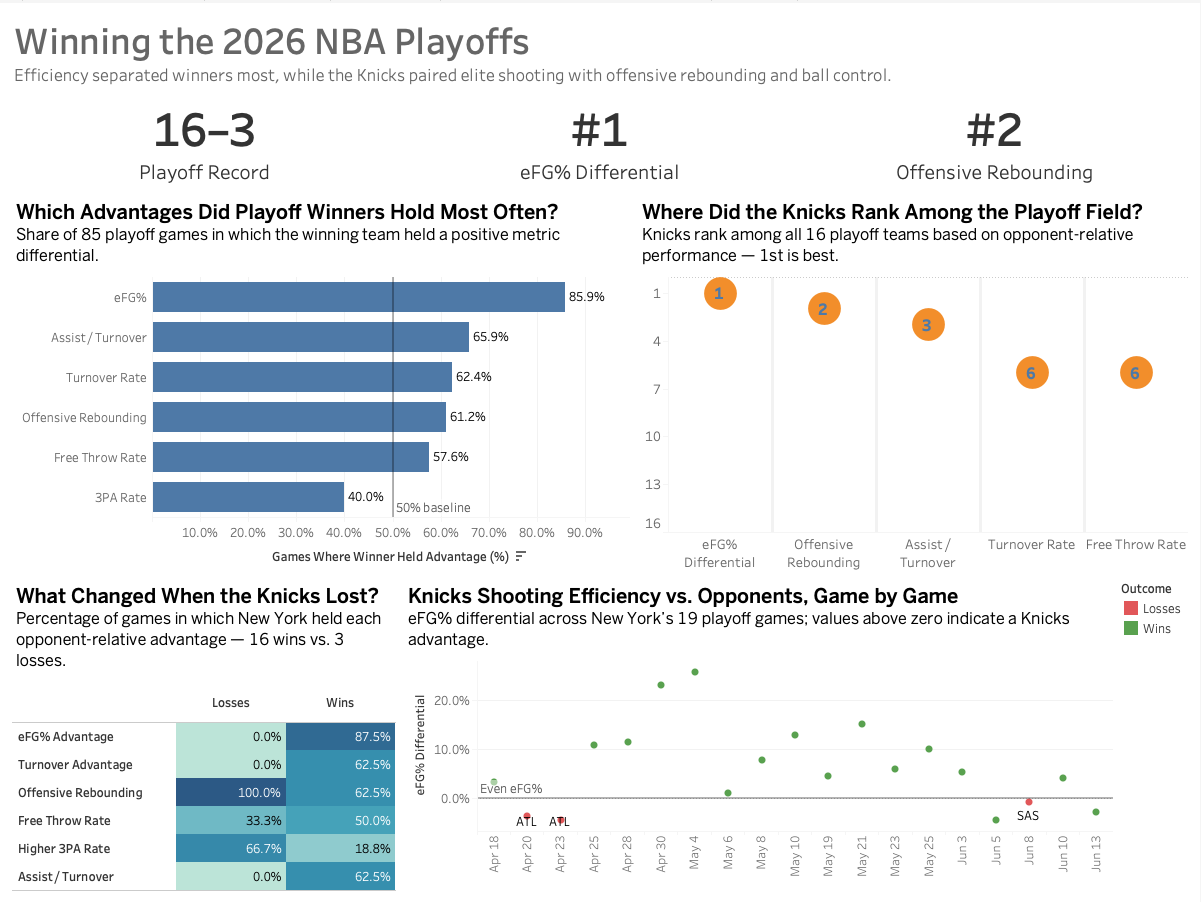

What the dashboard file says about the page in this screenshot:
{"tool":"tableau","page":{"name":"2026 NBA Playoff Dashboard","canvas":[1200,900],"ordinal":0},"visuals":[{"type":"text","box":[8,8,1184,80]},{"type":"worksheet","title":"KPI - Playoff Record","mark":"Text","box":[8,88,395,101]},{"type":"worksheet","title":"KPI - eFG Rank","mark":"Text","box":[403,88,395,101]},{"type":"worksheet","title":"KPI - OREB Rank","mark":"Text","box":[798,88,394,101]},{"type":"worksheet","title":"01 - League Winning Factors","mark":"Automatic","rows":["metric"],"cols":["pct_winners_with_advantage"],"box":[8,189,626,384]},{"type":"worksheet","title":"02 - Knicks League Ranks","mark":"Circle","box":[634,189,557.9,384]},{"type":"worksheet","title":"03 - Knicks Wins vs Losses","mark":"Square","cols":["wl"],"box":[8,573,392,319]},{"type":"worksheet","title":"04 - Knicks Game eFG","mark":"Circle","rows":["efg_diff"],"cols":["game_date"],"box":[400,573,716.9,319]},{"type":"legend","title":"04 - Knicks Game eFG","param":"[federated.1msszrq0bmaeel0zp5f8k0yv4jaq].[none:wl:nk]","box":[1116.9,573,75,319]}]}

Visuals, with their boxes in screenshot pixels (x1, y1, x2, y2), scaled from the page's 1200x900 canvas onto the 1201x902 screenshot:
text: (8,8,1193,88)
"KPI - Playoff Record" worksheet (Text marks): (8,88,403,189)
"KPI - eFG Rank" worksheet (Text marks): (403,88,799,189)
"KPI - OREB Rank" worksheet (Text marks): (799,88,1193,189)
"01 - League Winning Factors" worksheet: (8,189,635,574)
"02 - Knicks League Ranks" worksheet (Circle marks): (635,189,1193,574)
"03 - Knicks Wins vs Losses" worksheet (Square marks): (8,574,400,894)
"04 - Knicks Game eFG" worksheet (Circle marks): (400,574,1118,894)
"04 - Knicks Game eFG" legend: (1118,574,1193,894)
